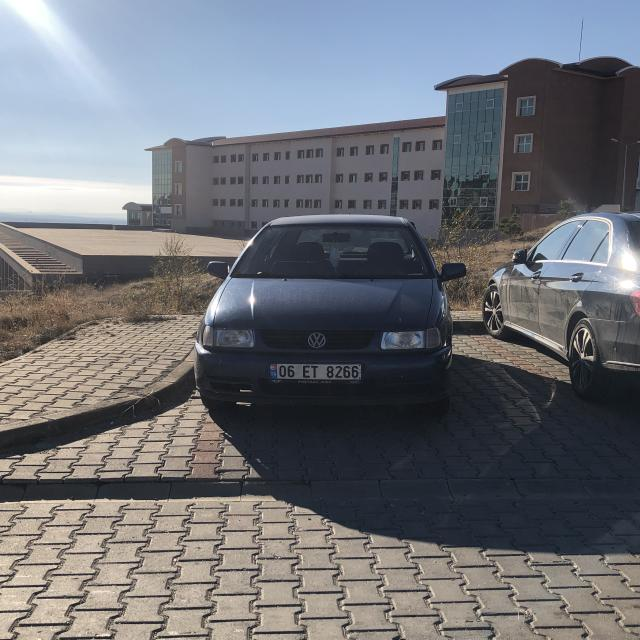license_plate: (269, 363, 363, 380)
